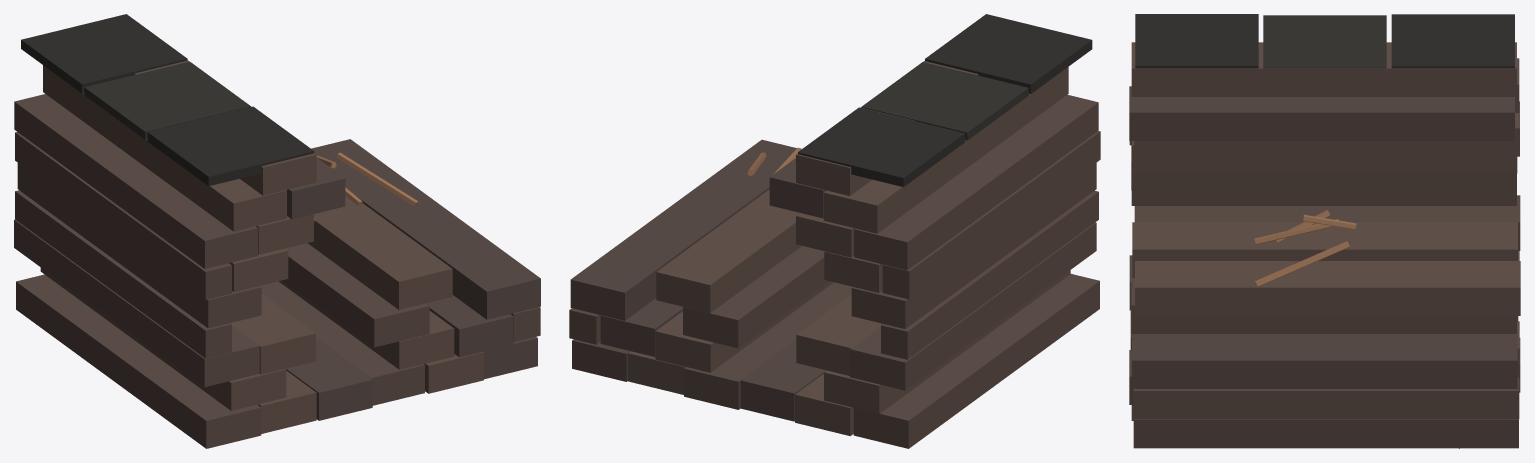
Rendered from wall_brick_dmg_b.glb.
3 views of the same model, side by side, from view 1: azimuth 30°, elevation 25°; view 2: azimuth 150°, elevation 25°; view 3: azimuth 270°, elevation 25° (orthographic).
Visible parts, largest first — view 1: WallBrickDamaged; view 2: WallBrickDamaged; view 3: WallBrickDamaged.
Boxes of the visible parts, x1,y1,x2,y2 form: WallBrickDamaged: [14, 14, 540, 448]; WallBrickDamaged: [569, 14, 1100, 448]; WallBrickDamaged: [1129, 14, 1520, 448].
Bounding box in the file's own units: 3.94 × 3.05 × 3.92.
